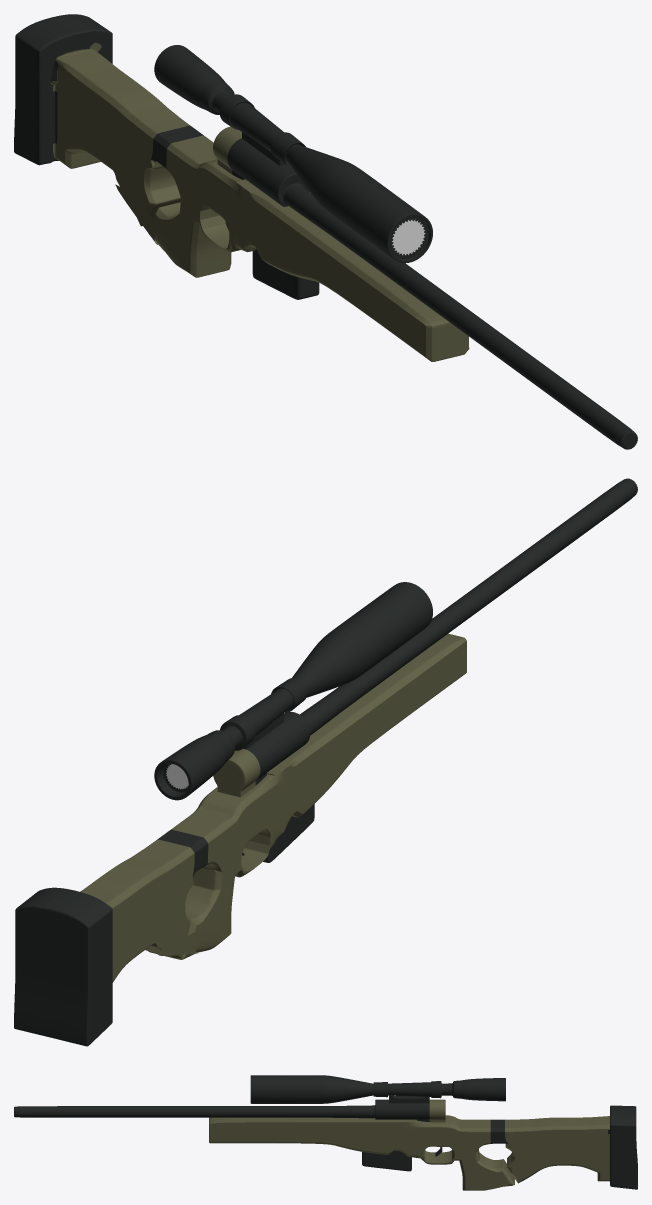
File: Sniper.fbx
3 views of the same model, one above another, from view 1: azimuth 30°, elevation 25°; view 2: azimuth 150°, elevation 25°; view 3: azimuth 270°, elevation 25° (orthographic). The views are drawn at different scales.
Parts seen in each view (by area): view 1: SniperRifle; view 2: SniperRifle; view 3: SniperRifle.
Part boxes in pixels (x1,y1,x2,y2): SniperRifle: (14,14,637,449); SniperRifle: (14,478,637,1046); SniperRifle: (14,1075,637,1190).
Size of the model in its own units: 108 by 283 by 1453.
